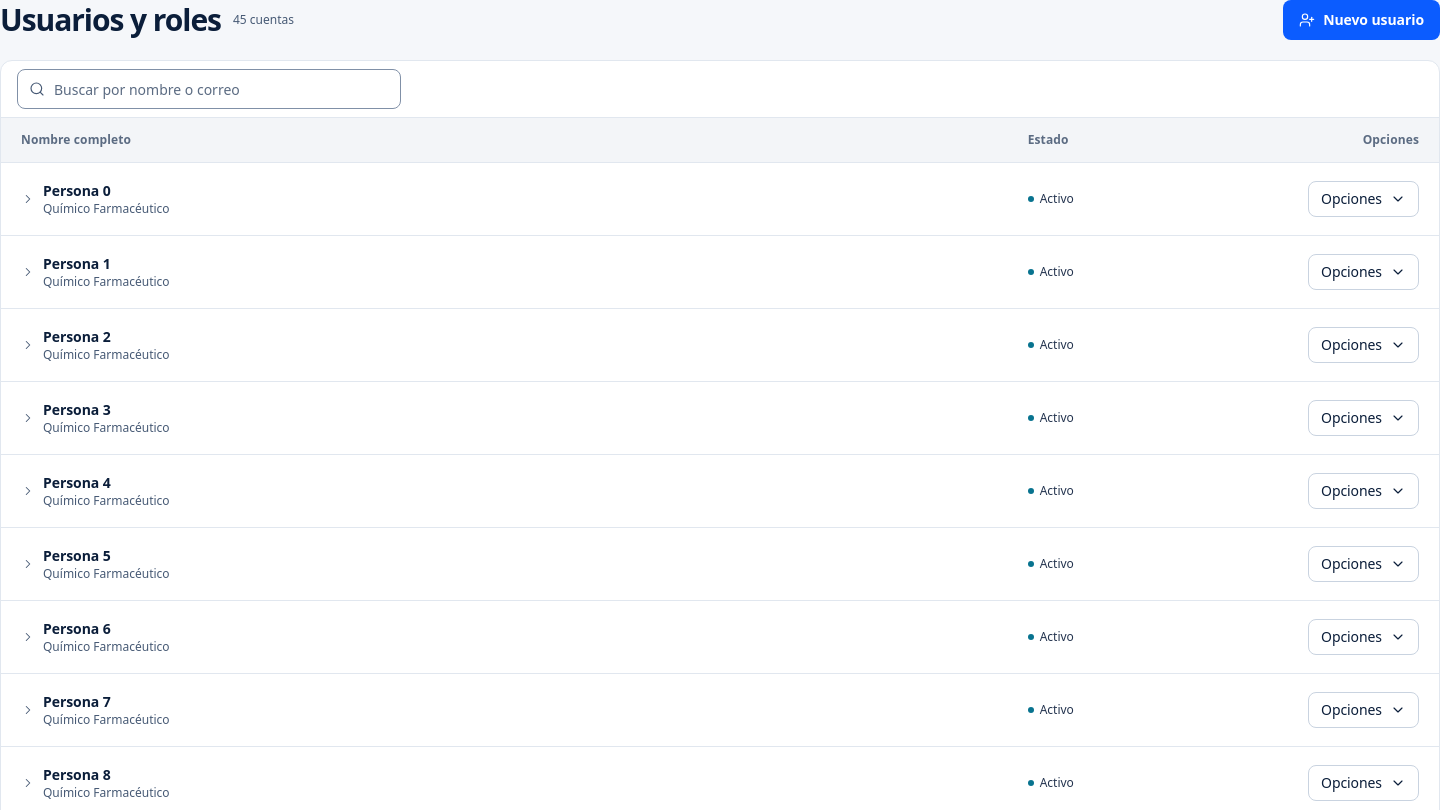
Test: UsuariosPage (HU-41, HU-45, RF-17) › busca también las cuentas que están fuera de la primera página
The width and height of the screenshot is (1440, 810).
Type "U44@" into the search field at (209, 89), box 17,69 -> 401,109
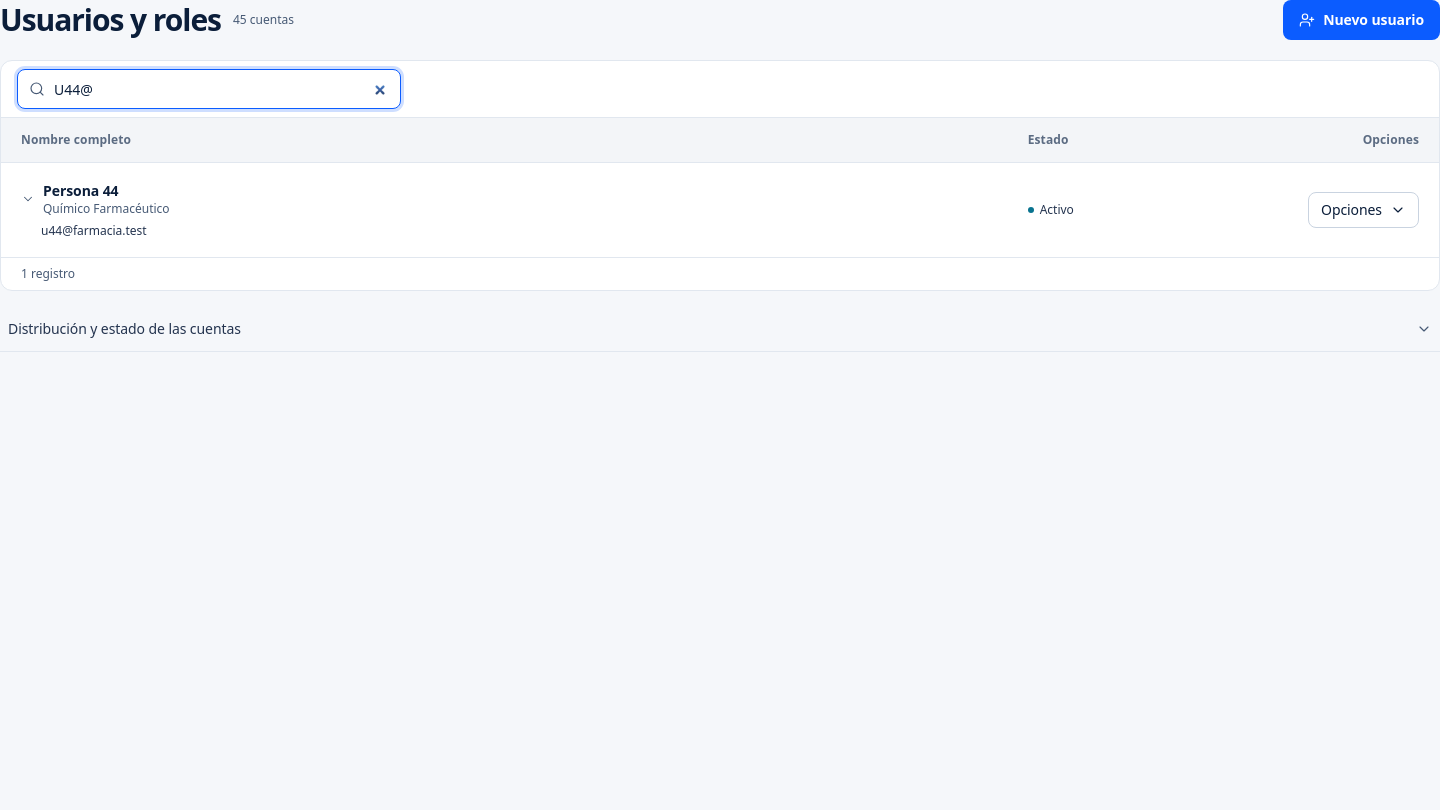
Expected: the text "Persona 44" is shown, 43,180 -> 118,200
Expected: the heading "Persona 0" is gone
Clear the search field at (209, 89), box 17,69 -> 401,109
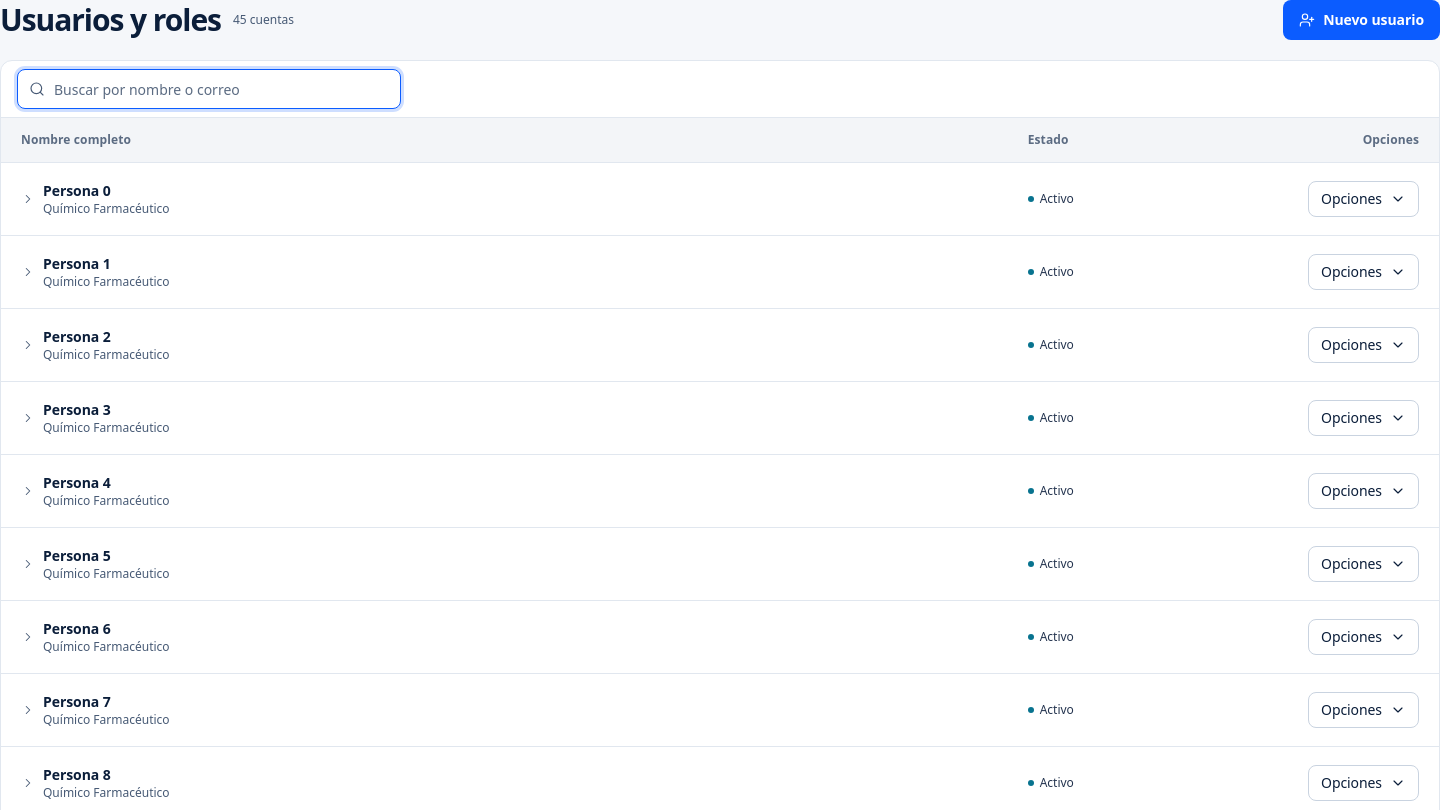
Expected: the text "Persona 0" is shown, 43,180 -> 111,200
